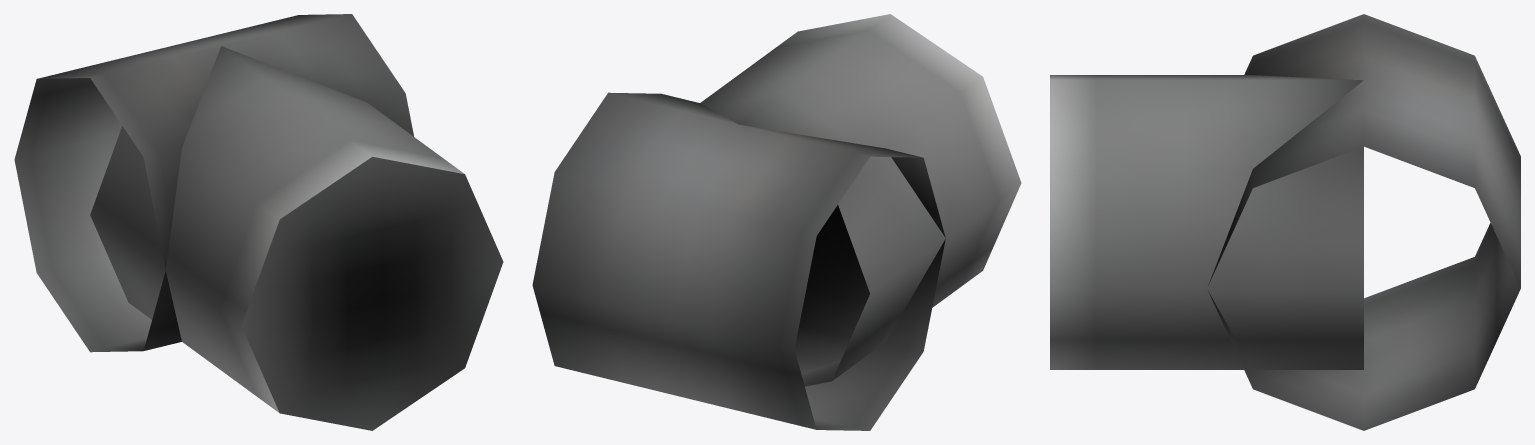
Rendered from piston head.obj.
3 views of the same model, side by side, from view 1: azimuth 30°, elevation 25°; view 2: azimuth 150°, elevation 25°; view 3: azimuth 270°, elevation 25° (orthographic). The views are drawn at different scales.
Visible parts, largest first — view 1: extender; view 2: extender; view 3: extender.
Boxes of the visible parts, left/top/right/bottom form: extender: left=14, top=14, right=503, bottom=430; extender: left=532, top=14, right=1021, bottom=430; extender: left=1050, top=14, right=1520, bottom=430.
Bounding box in the file's own units: 0.0375 × 0.0375 × 0.0562.
1 material, 1 textured.
